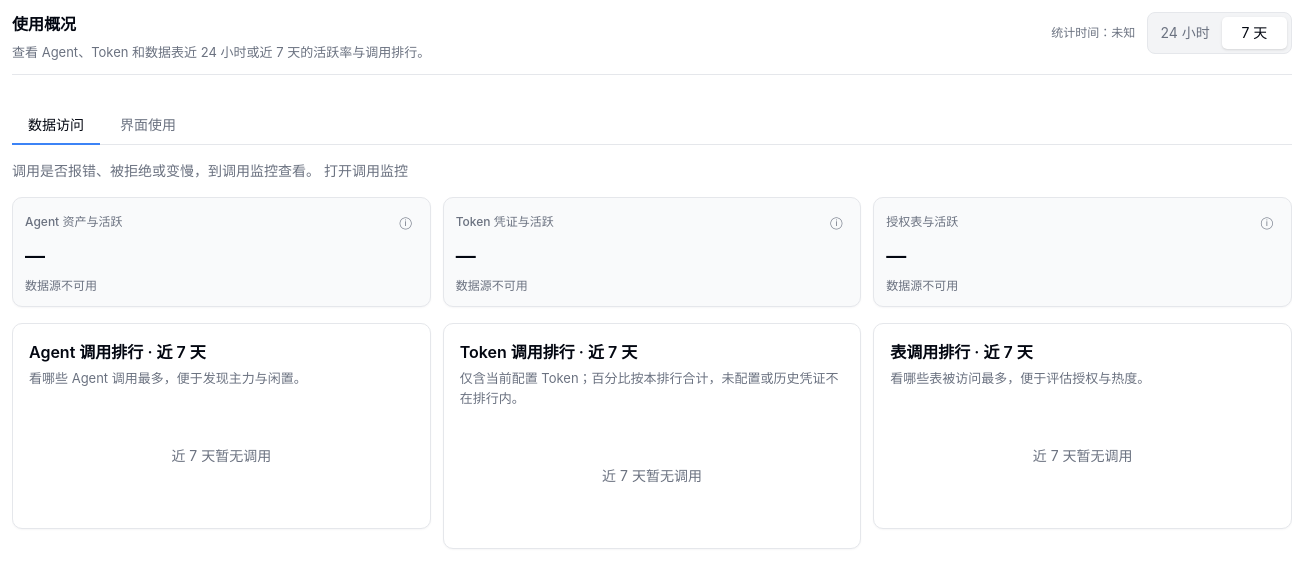
GovernanceOverview › shows interface rankings including zero-visit menus and pages
Click the tab with test id "governance-view-interface". click: click(148, 126)
box: [104,107,192,145]
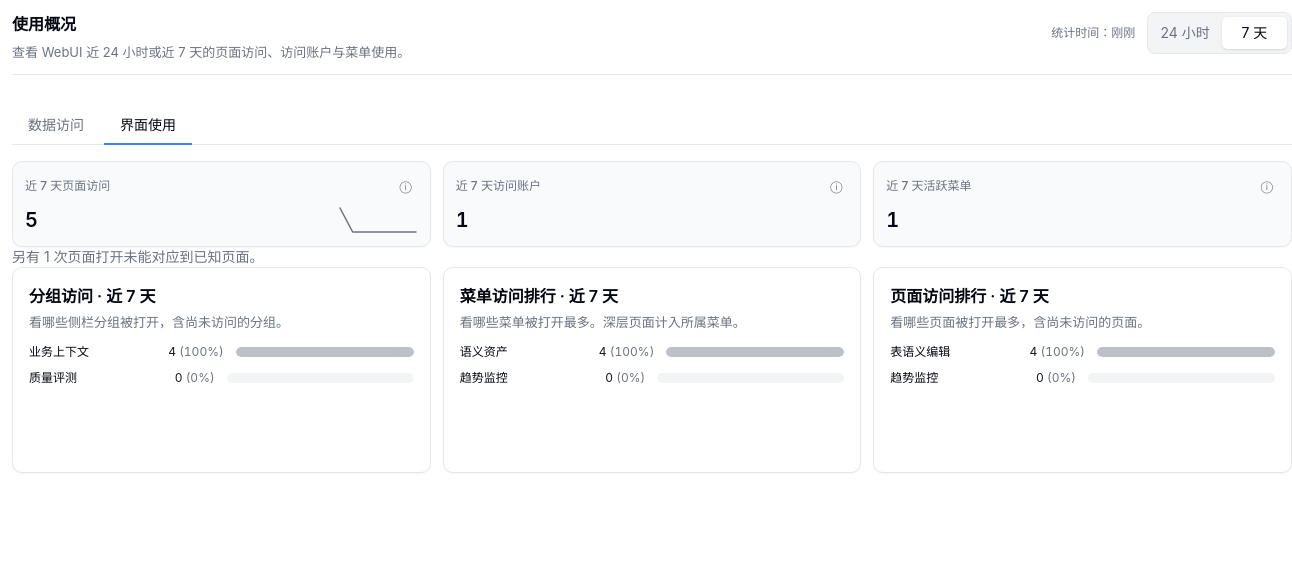
Expected: the heading "菜单访问排行 · 近 7 天" is shown, [460,286,618,306]
Expected: the heading "页面访问排行 · 近 7 天" is shown, [890,286,1049,306]
Expected: the heading "分组访问 · 近 7 天" is shown, [29,286,156,306]
Click the tab with test id "governance-window-24h". click: click(1185, 33)
box: [1152,17,1218,49]
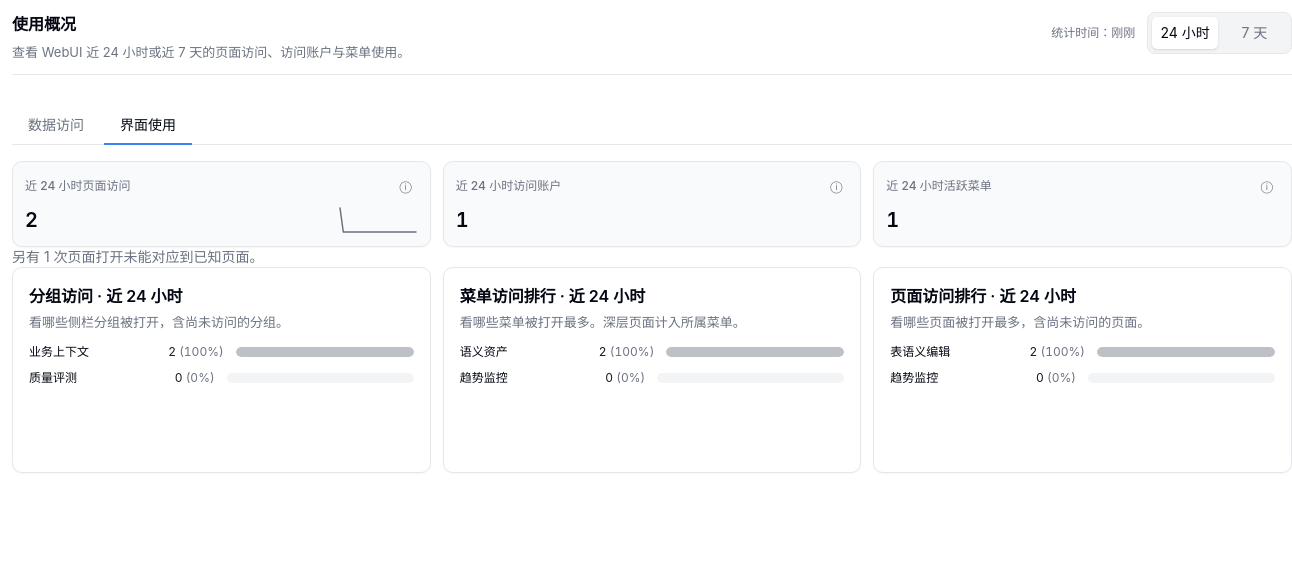
Expected: the element with test id "metric-interface-page-views" shows "2", [25,208,38,232]
Expected: the heading "菜单访问排行 · 近 24 小时" is shown, [460,286,645,306]
